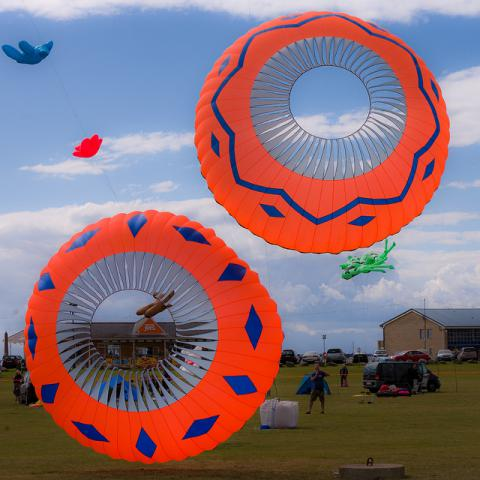car: (362, 360, 442, 394), (390, 350, 430, 362), (326, 348, 346, 363), (280, 350, 301, 364), (457, 347, 477, 361), (435, 350, 454, 362), (302, 350, 319, 363), (352, 352, 368, 363), (372, 350, 388, 360), (2, 356, 18, 366), (374, 357, 397, 362), (388, 356, 397, 361)
truck: (363, 361, 441, 393), (280, 350, 298, 364), (457, 348, 476, 360)
